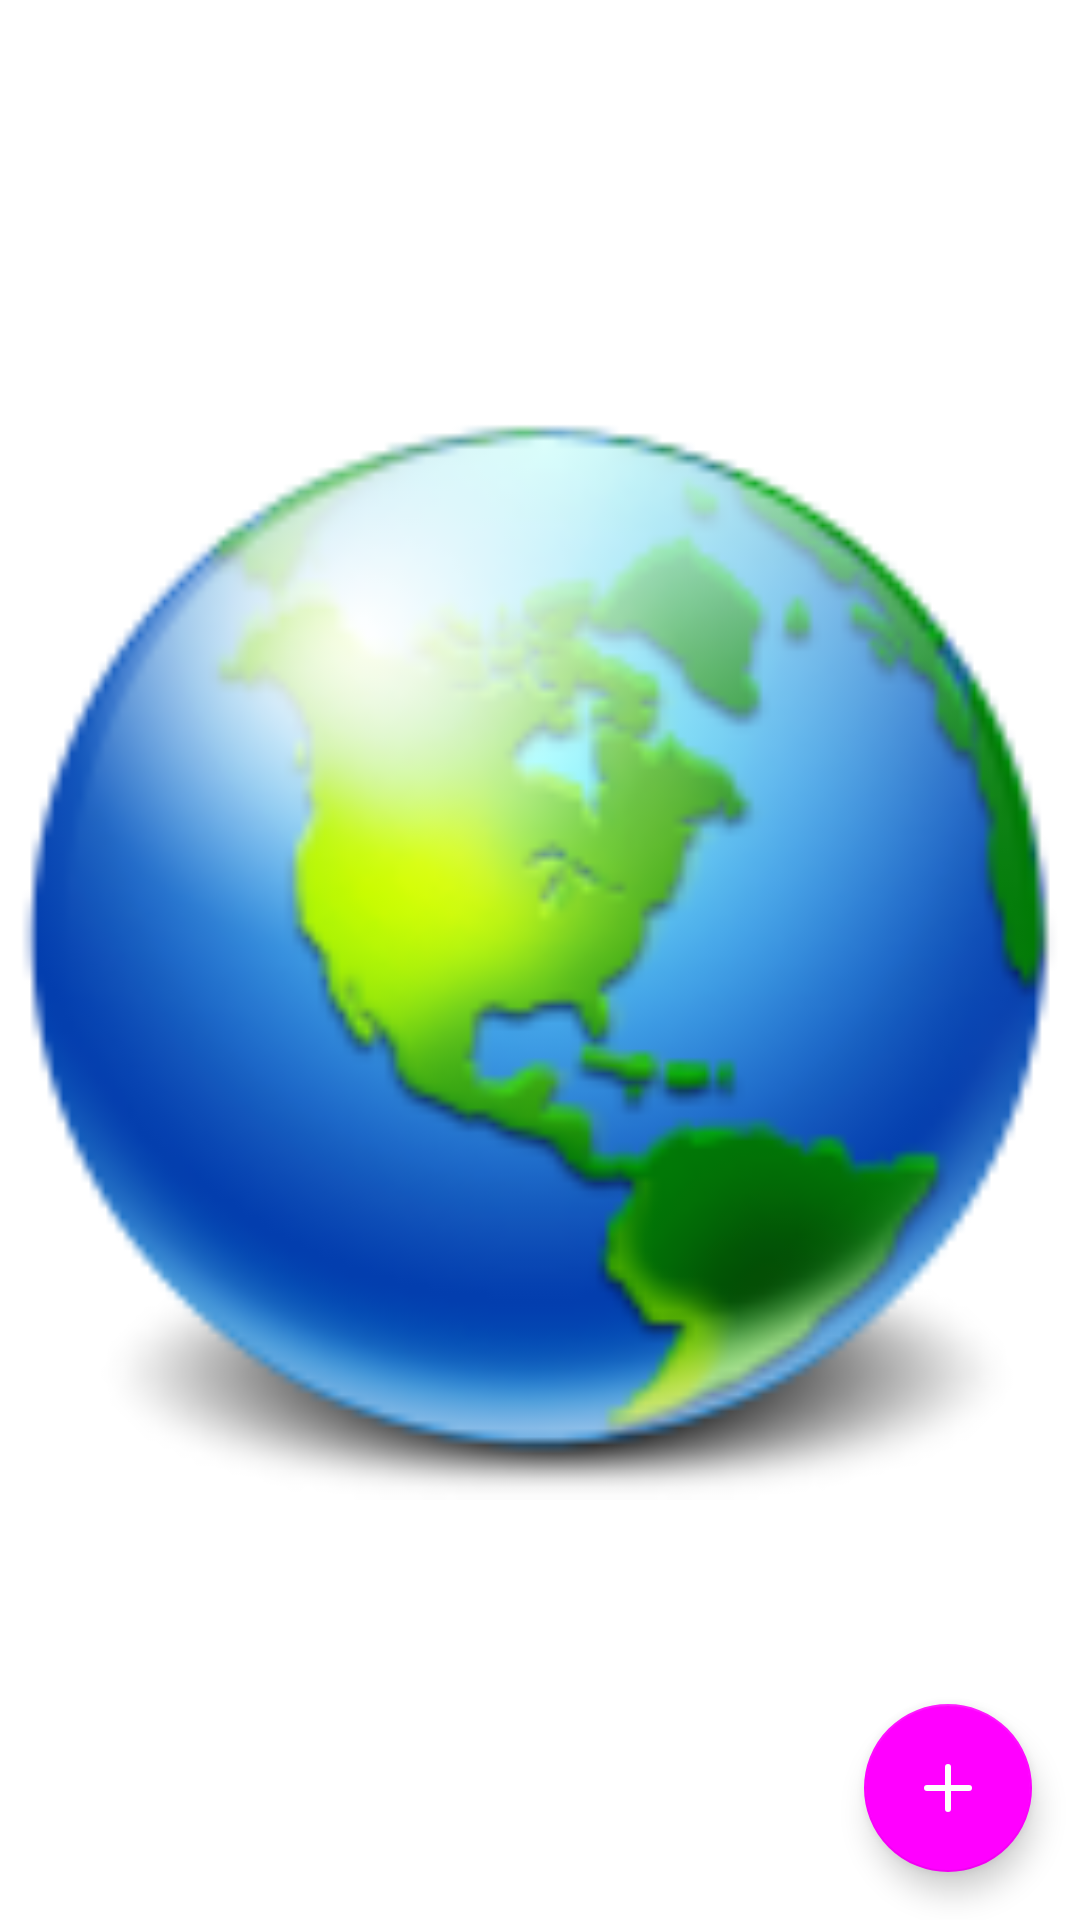

Screen size 1080x1920. Icon name, then its center in pixels as (x=x, y=y):
plus fab: (x=948, y=1788)
